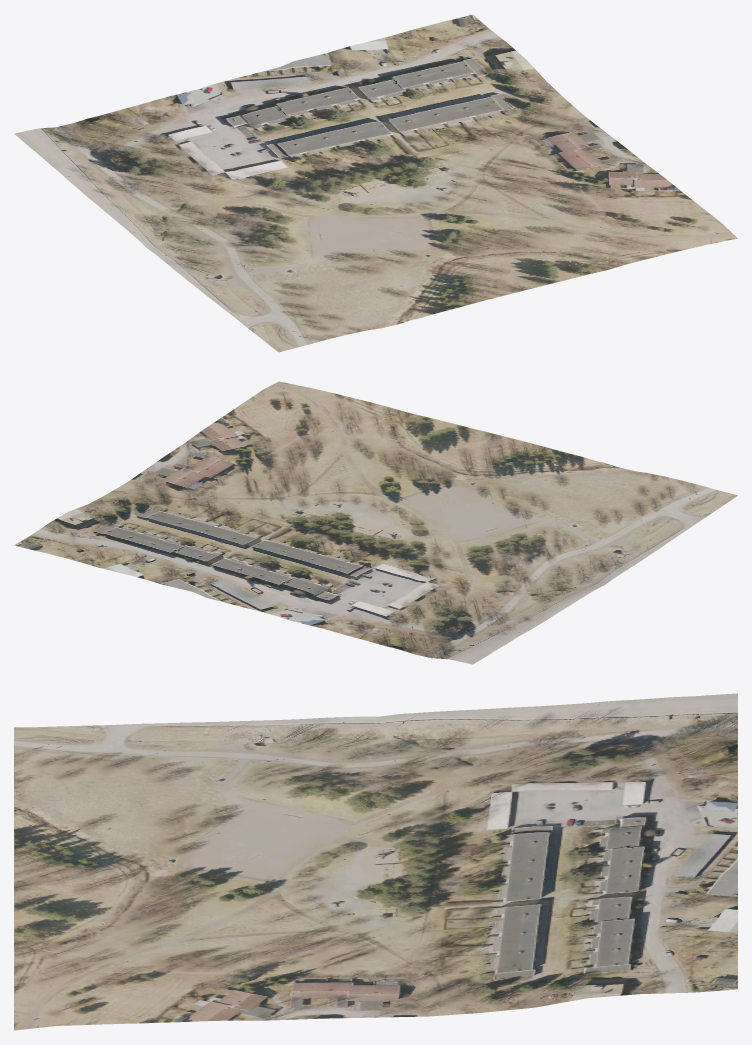
The model's file is CM_Terrain_24490868_6819384.fbx.
The picture shows the model from 3 angles, top to bottom: view 1: azimuth 30°, elevation 25°; view 2: azimuth 150°, elevation 25°; view 3: azimuth 270°, elevation 25°; orthographic projection. The views are drawn at different scales.
Visible parts, largest first — view 1: CM_Terrain_24490868_6819384_LOD0; view 2: CM_Terrain_24490868_6819384_LOD0; view 3: CM_Terrain_24490868_6819384_LOD0.
Part boxes in pixels (x1,y1,x2,y2): CM_Terrain_24490868_6819384_LOD0: (14, 14, 737, 352); CM_Terrain_24490868_6819384_LOD0: (14, 381, 737, 664); CM_Terrain_24490868_6819384_LOD0: (14, 693, 737, 1030).
Size of what is drawn, in the model's own units: 205 by 14.08 by 205.
